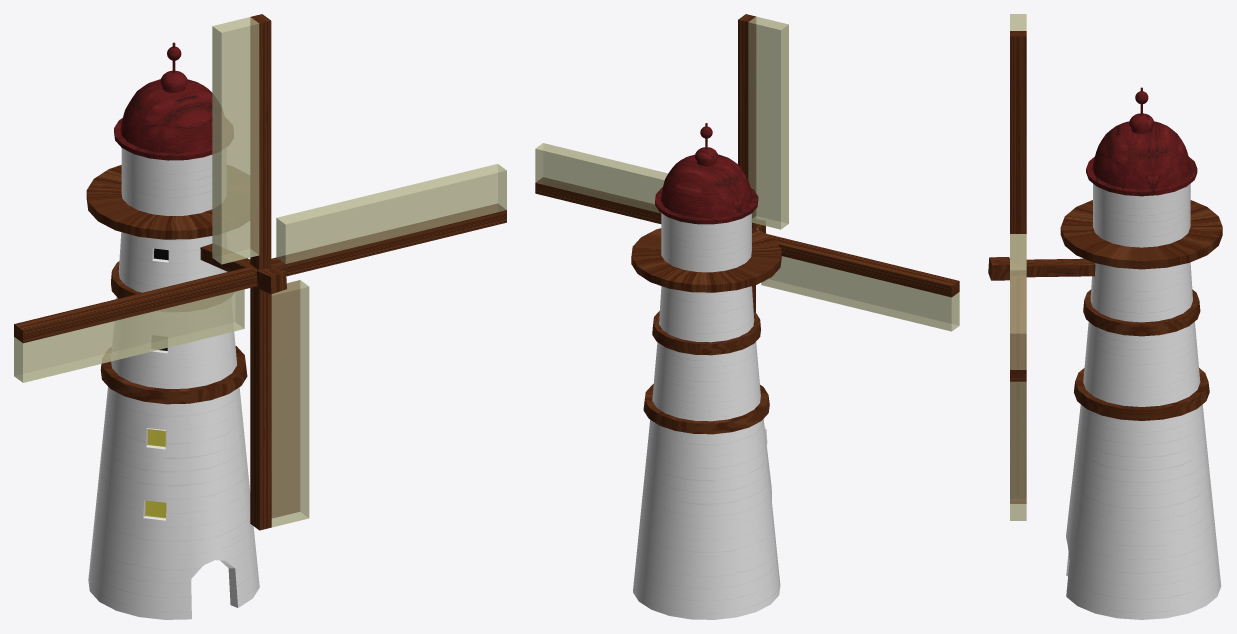
The model's file is windmill .fbx.
3 renders of one model, left to right at view 1: azimuth 30°, elevation 25°; view 2: azimuth 150°, elevation 25°; view 3: azimuth 270°, elevation 25°, orthographic. The views are drawn at different scales.
Parts seen in each view (by area): view 1: pCylinder1, pasted__pasted__pCube1, pasted__pasted__pasted__pCube1, pCube1, pasted__pCube1; view 2: pCylinder1, pasted__pasted__pCube1, pasted__pasted__pasted__pCube1, pasted__pCube1; view 3: pCylinder1, pasted__pasted__pCube1, pasted__pCube1, pCube1.
Boxes of the visible parts, x1,y1,x2,y2 form: pCylinder1: [86, 42, 286, 619]; pasted__pasted__pCube1: [212, 14, 271, 269]; pasted__pasted__pasted__pCube1: [14, 266, 257, 382]; pCube1: [250, 280, 309, 530]; pasted__pCube1: [271, 164, 506, 276]; pCylinder1: [631, 123, 781, 619]; pasted__pasted__pCube1: [738, 14, 788, 229]; pasted__pasted__pasted__pCube1: [761, 234, 959, 331]; pasted__pCube1: [535, 143, 668, 223]; pCylinder1: [988, 87, 1222, 619]; pasted__pasted__pCube1: [1010, 14, 1026, 233]; pasted__pCube1: [1010, 234, 1026, 381]; pCube1: [1010, 381, 1026, 520].
Bounding box in the file's own units: 25.13 × 30.23 × 11.44.
8 materials, 3 textured.
